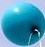Balloon: (2, 3, 45, 47)
